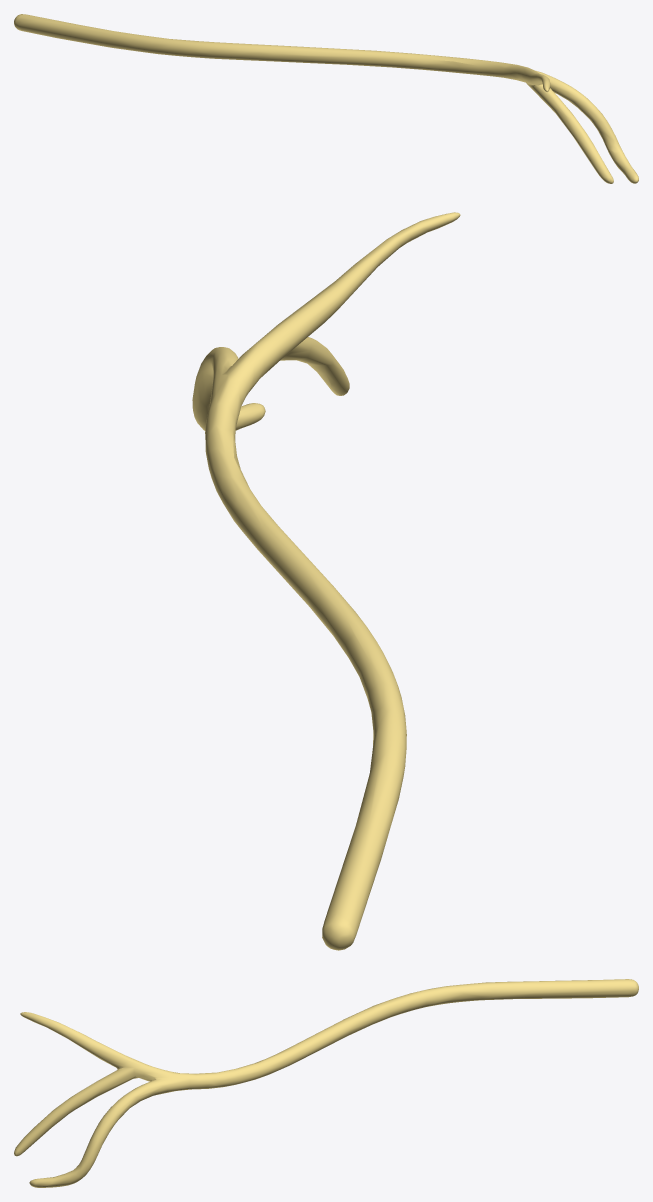
File: fma52630_fj3912.glb
3 views of the same model, one above another, from view 1: azimuth 30°, elevation 25°; view 2: azimuth 150°, elevation 25°; view 3: azimuth 270°, elevation 25° (orthographic). The views are drawn at different scales.
Visible parts, largest first — view 1: FMA52630_FJ3912; view 2: FMA52630_FJ3912; view 3: FMA52630_FJ3912.
Boxes of the visible parts, x1,y1,x2,y2 form: FMA52630_FJ3912: (14, 14, 638, 183); FMA52630_FJ3912: (192, 212, 460, 950); FMA52630_FJ3912: (14, 979, 638, 1187).
Bounding box in the file's own units: 0.0233 × 0.008 × 0.0354.
